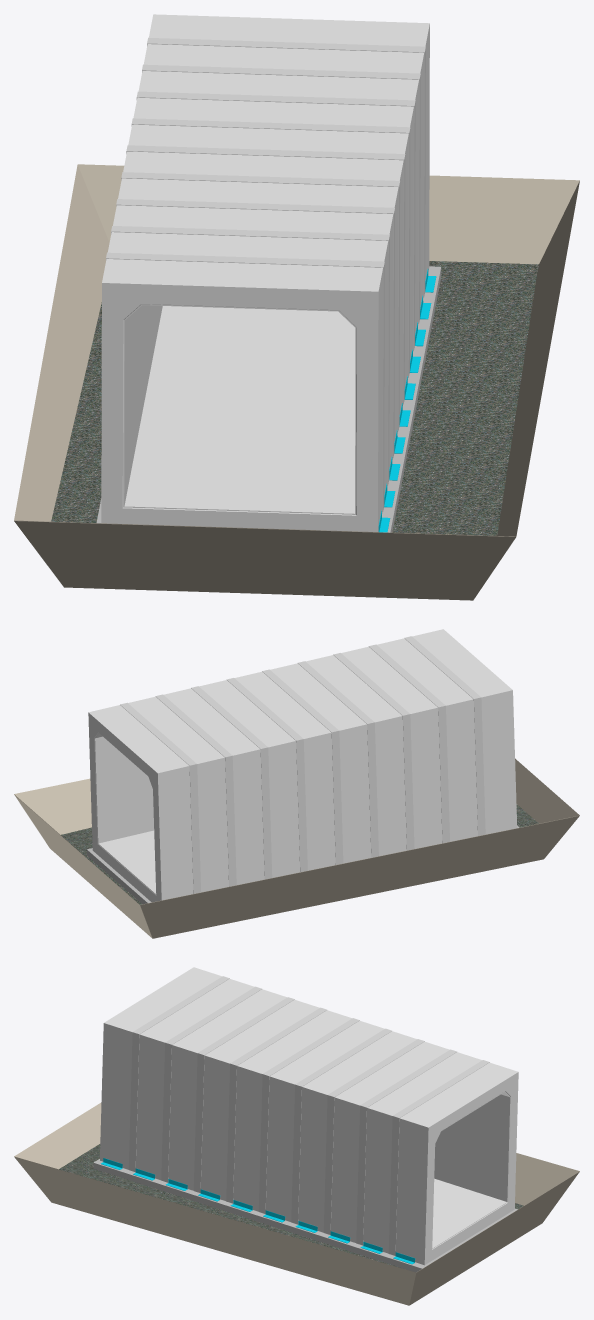
3 renders of one model, top to bottom at view 1: azimuth 30°, elevation 25°; view 2: azimuth 150°, elevation 25°; view 3: azimuth 270°, elevation 25°, orthographic. The views are drawn at different scales.
Visible parts, largest first — view 1: anonymous.019, オブジェクト.002, 凸凹地盤 - 名称未設定, anonymous.013, anonymous.012, anonymous.011, anonymous.018, オブジェクト, anonymous.010, anonymous.014, anonymous.017, anonymous.015 (+1 smaller); view 2: anonymous.019, オブジェクト.002, anonymous.018, anonymous.017, anonymous.016, anonymous.015, anonymous.014, anonymous.013, anonymous.012, anonymous.011, anonymous.010, 凸凹地盤 - 名称未設定 (+1 smaller); view 3: anonymous.019, オブジェクト.002, オブジェクト, 凸凹地盤 - 名称未設定, anonymous.013, anonymous.011, anonymous.014, anonymous.015, anonymous.012, anonymous.017, anonymous.018, anonymous.010 (+1 smaller).
Part boxes in pixels (x1=…): anonymous.019: x1=101, y1=14, x2=429, y2=531; オブジェクト.002: x1=14, y1=164, x2=579, y2=600; 凸凹地盤 - 名称未設定: x1=51, y1=261, x2=538, y2=535; anonymous.013: x1=131, y1=118, x2=410, y2=377; anonymous.012: x1=136, y1=91, x2=415, y2=350; anonymous.011: x1=142, y1=64, x2=420, y2=323; anonymous.018: x1=106, y1=252, x2=384, y2=511; オブジェクト: x1=96, y1=266, x2=441, y2=532; anonymous.010: x1=147, y1=37, x2=425, y2=296; anonymous.014: x1=126, y1=145, x2=405, y2=404; anonymous.017: x1=111, y1=226, x2=389, y2=484; anonymous.015: x1=121, y1=172, x2=400, y2=431; anonymous.019: x1=88, y1=629, x2=517, y2=902; オブジェクト.002: x1=14, y1=758, x2=579, y2=938; anonymous.018: x1=404, y1=636, x2=485, y2=835; anonymous.017: x1=369, y1=644, x2=449, y2=843; anonymous.016: x1=333, y1=653, x2=414, y2=850; anonymous.015: x1=298, y1=661, x2=378, y2=857; anonymous.014: x1=262, y1=669, x2=343, y2=864; anonymous.013: x1=226, y1=678, x2=307, y2=872; anonymous.012: x1=191, y1=686, x2=272, y2=879; anonymous.011: x1=155, y1=694, x2=236, y2=886; anonymous.010: x1=120, y1=702, x2=200, y2=893; 凸凹地盤 - 名称未設定: x1=61, y1=804, x2=538, y2=904; anonymous.019: x1=100, y1=967, x2=518, y2=1265; オブジェクト.002: x1=14, y1=1103, x2=579, y2=1305; オブジェクト: x1=93, y1=1159, x2=517, y2=1272; 凸凹地盤 - 名称未設定: x1=59, y1=1144, x2=523, y2=1268; anonymous.013: x1=291, y1=1028, x2=391, y2=1224; anonymous.011: x1=356, y1=1049, x2=456, y2=1245; anonymous.014: x1=258, y1=1018, x2=359, y2=1213; anonymous.015: x1=226, y1=1007, x2=326, y2=1203; anonymous.012: x1=323, y1=1039, x2=424, y2=1234; anonymous.017: x1=161, y1=986, x2=261, y2=1182; anonymous.018: x1=128, y1=976, x2=229, y2=1172; anonymous.010: x1=388, y1=1060, x2=489, y2=1255.
Size of the model in its own units: 15.45 by 5.49 by 16.99.
24 materials, 1 textured.
